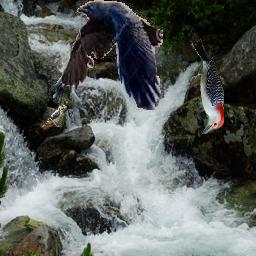Crow: (53, 0, 163, 110)
Woodpecker: (190, 34, 225, 135), (41, 103, 68, 127)
